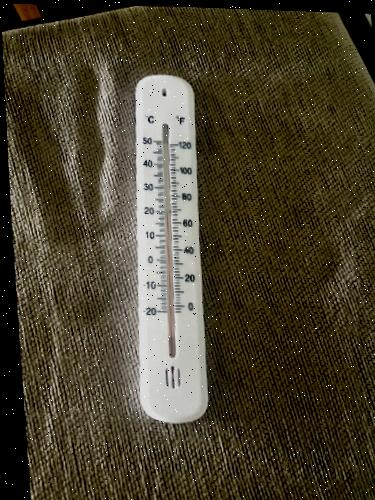thermo: (133, 75, 208, 412)
